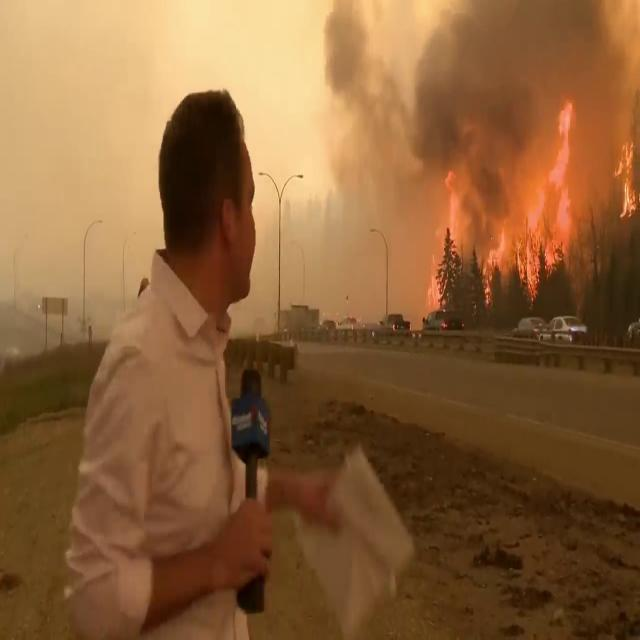Fire: (420, 116, 578, 314), (619, 134, 640, 222)
Smoke: (311, 0, 640, 207)
